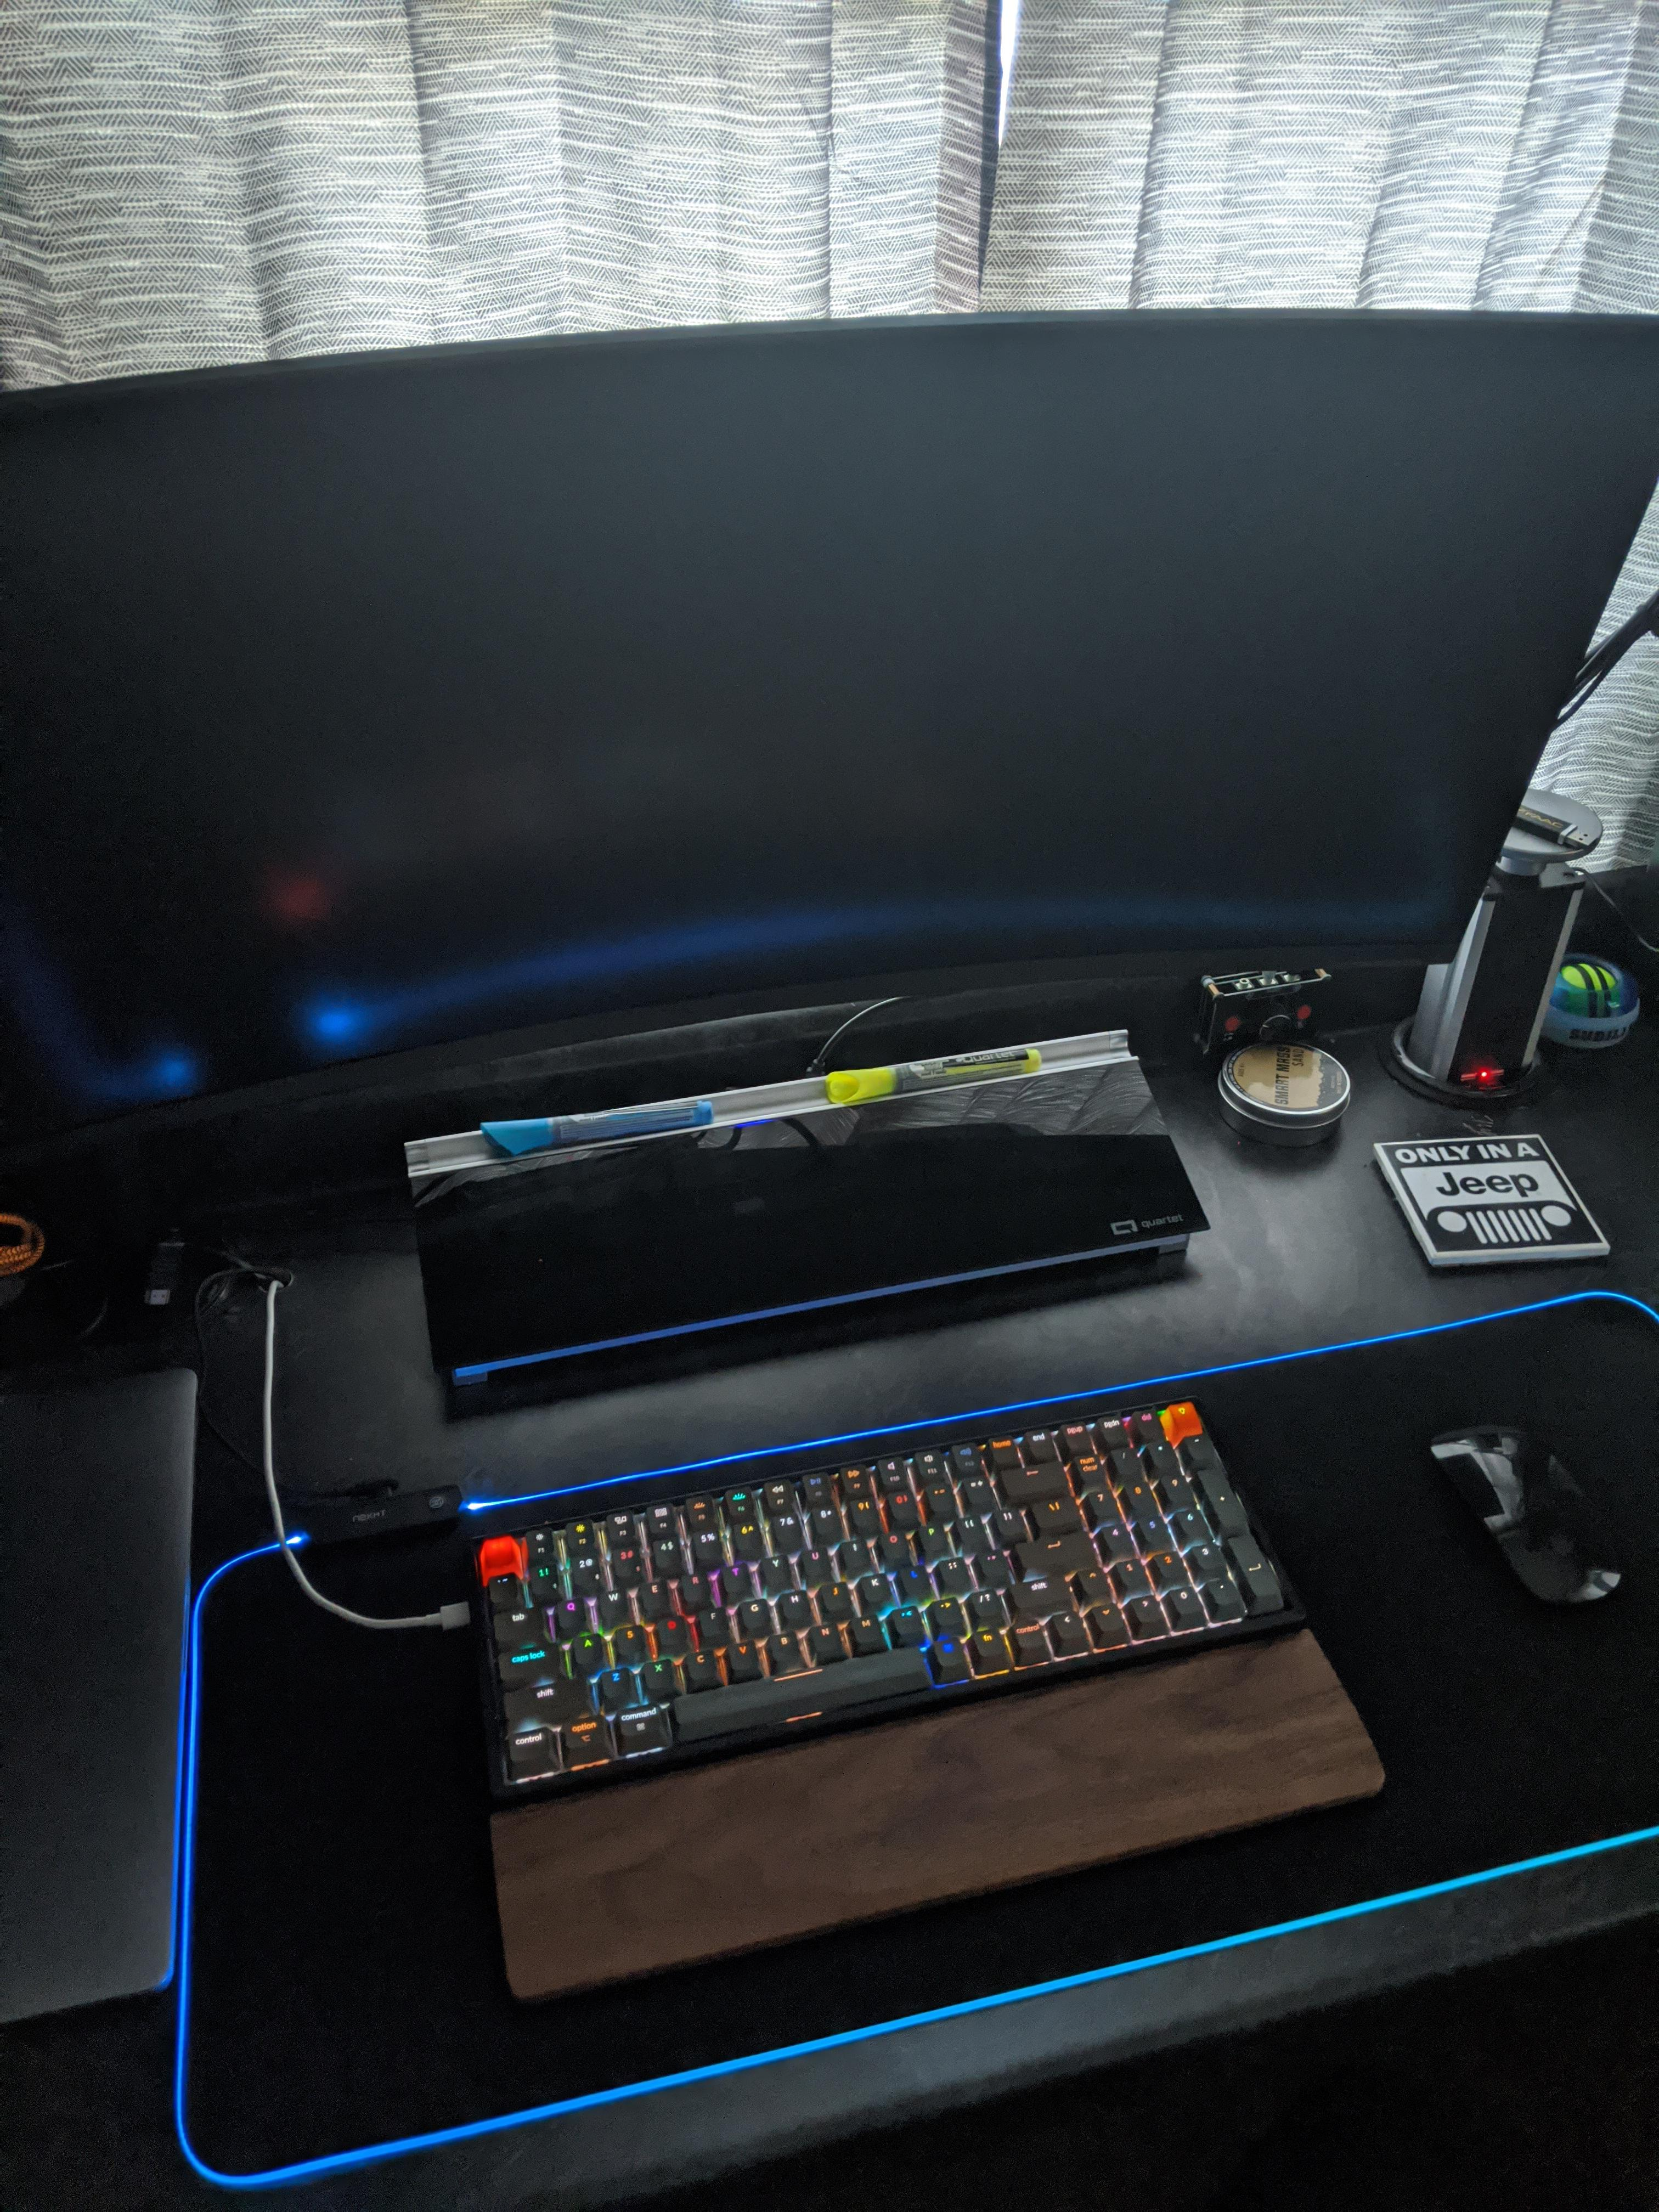Desk (Generic): (0, 972, 1657, 2186)
Drink Coaster: (1359, 1106, 1619, 1277)
Keyboard (Generic): (471, 1400, 1314, 1735)
Monitor (Landscape): (0, 322, 1624, 958)
Mouse (Generic): (1392, 1421, 1659, 1616)
Mousepad (Gaming): (171, 1301, 1659, 2153)
